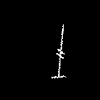treble_crochet: (52, 25, 64, 77)
